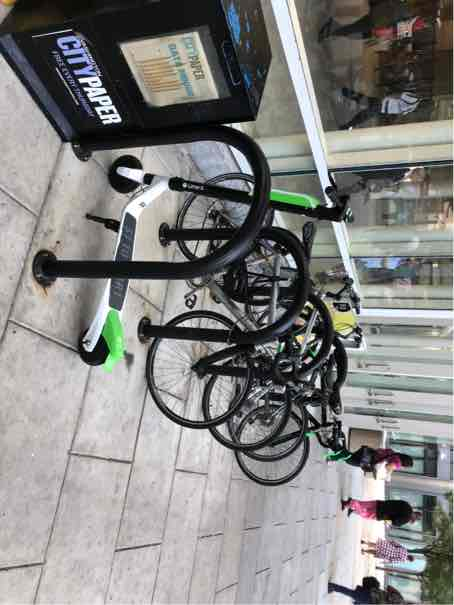scooter: (60, 138, 371, 377)
